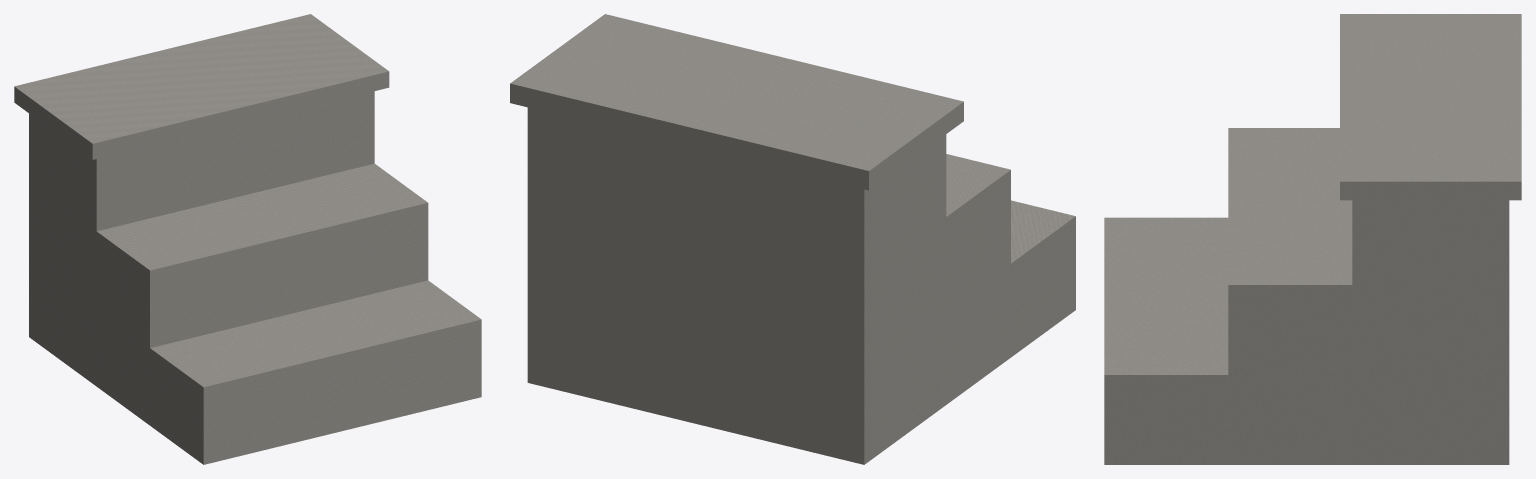
Rendered from farm-and-working-animals-hd-mounting-block-59c3ab5c__29223.glb.
3 views of the same model, side by side, from view 1: azimuth 30°, elevation 25°; view 2: azimuth 150°, elevation 25°; view 3: azimuth 270°, elevation 25° (orthographic). The views are drawn at different scales.
Visible parts, largest first — view 1: mounting-block; view 2: mounting-block; view 3: mounting-block.
Part boxes in pixels (left/top/right/bottom): mounting-block: left=14, top=14, right=481, bottom=464; mounting-block: left=510, top=14, right=1075, bottom=464; mounting-block: left=1104, top=14, right=1521, bottom=464.
Bounding box in the file's own units: 0.9601 × 0.7701 × 1.01.
Materials: 1 (1 with a texture image).
